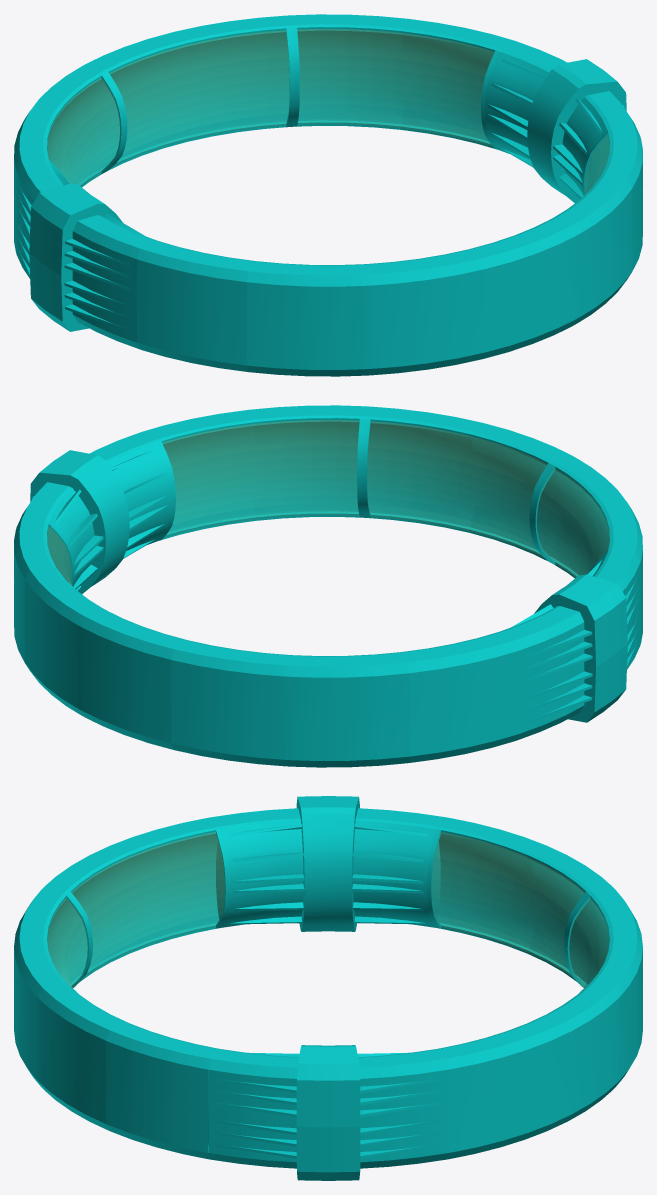
File: station_ring_2-5k.dae
The picture shows the model from 3 angles, top to bottom: view 1: azimuth 30°, elevation 25°; view 2: azimuth 150°, elevation 25°; view 3: azimuth 270°, elevation 25°; orthographic projection.
Parts seen in each view (by area): view 1: RING_residental_003, RING_residental_000; view 2: RING_residental_003, RING_residental_000; view 3: RING_residental_003, RING_residental_000.
Boxes of the visible parts, bbox=[...] form: RING_residental_003: bbox=[14, 14, 642, 376]; RING_residental_000: bbox=[47, 29, 609, 194]; RING_residental_003: bbox=[14, 405, 642, 767]; RING_residental_000: bbox=[47, 420, 609, 585]; RING_residental_003: bbox=[14, 796, 642, 1180]; RING_residental_000: bbox=[47, 832, 609, 987].
Size of the model in its own units: 5977 by 5721 by 1235.
